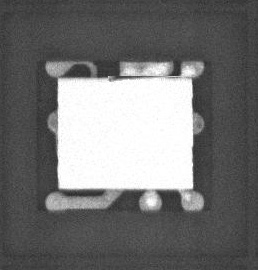DIE_BROKEN: (107, 73, 147, 82)
